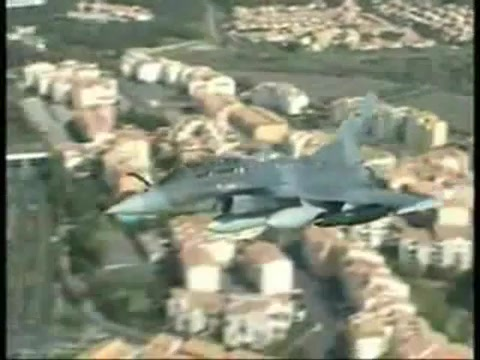aeroplane: (106, 92, 444, 233)
